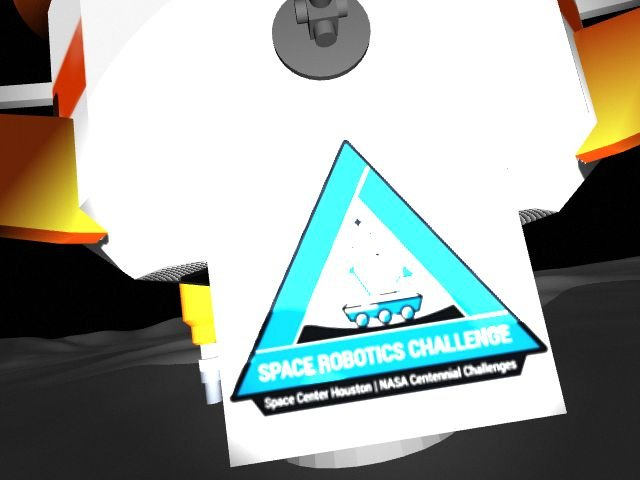basemarker: (229, 140, 549, 418)
